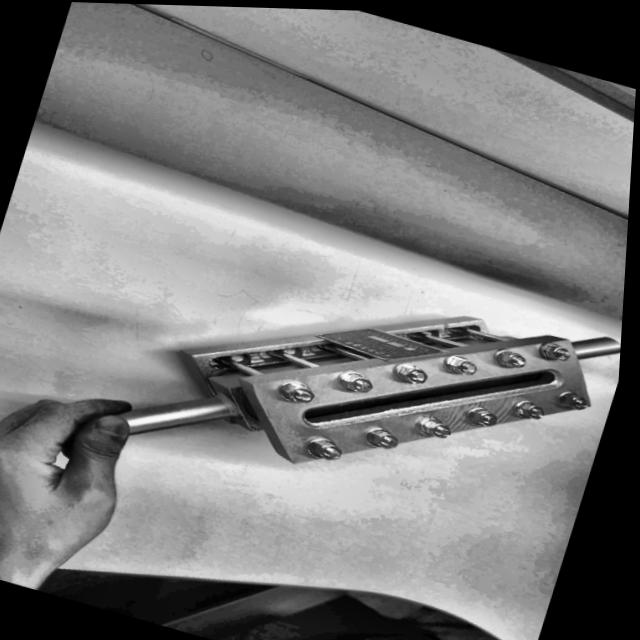ShuiWeiQi_12: (134, 218, 630, 561)
